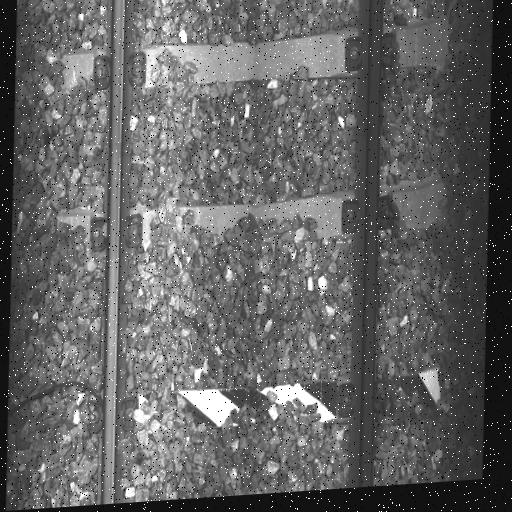clip: (92, 47, 145, 92), (343, 27, 398, 69), (340, 189, 395, 231), (337, 377, 392, 418), (89, 212, 142, 252), (79, 405, 139, 439)
sleeper: (41, 362, 441, 453), (46, 174, 444, 264), (49, 16, 449, 102)
